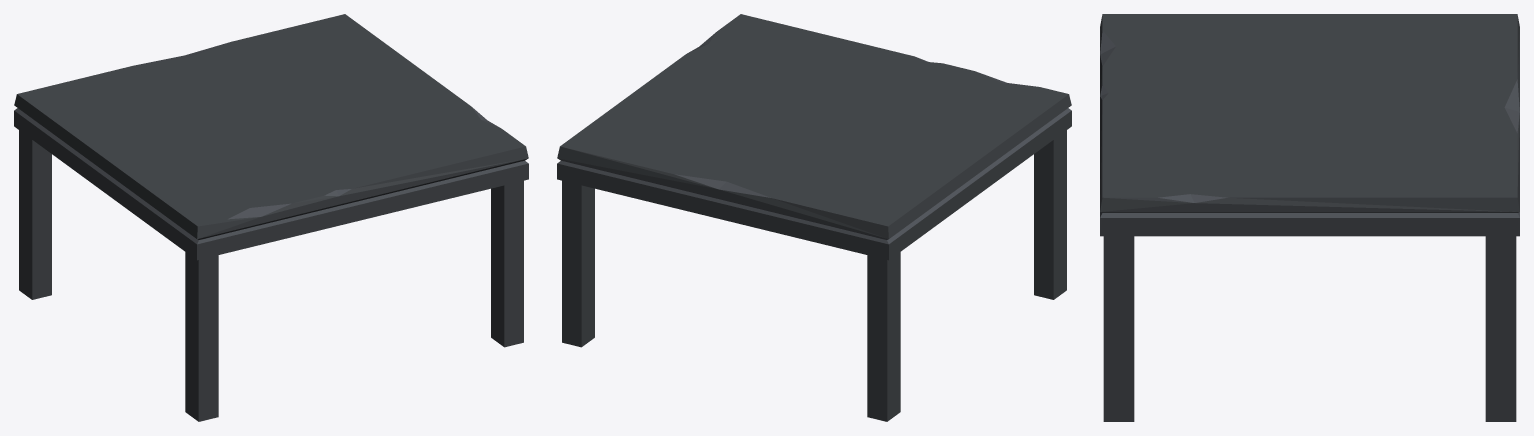
Rendered from CafeTable.obj.
3 views of the same model, side by side, from view 1: azimuth 30°, elevation 25°; view 2: azimuth 150°, elevation 25°; view 3: azimuth 270°, elevation 25° (orthographic). The views are drawn at different scales.
Parts seen in each view (by area): view 1: CafeTable; view 2: CafeTable; view 3: CafeTable.
Part boxes in pixels (<box>): CafeTable: <box>14,14,528,421</box>; CafeTable: <box>557,14,1071,421</box>; CafeTable: <box>1100,14,1519,421</box>.
Bounding box in the file's own units: 1.33 × 0.75 × 1.27.
Materials: 1 (1 with a texture image).
